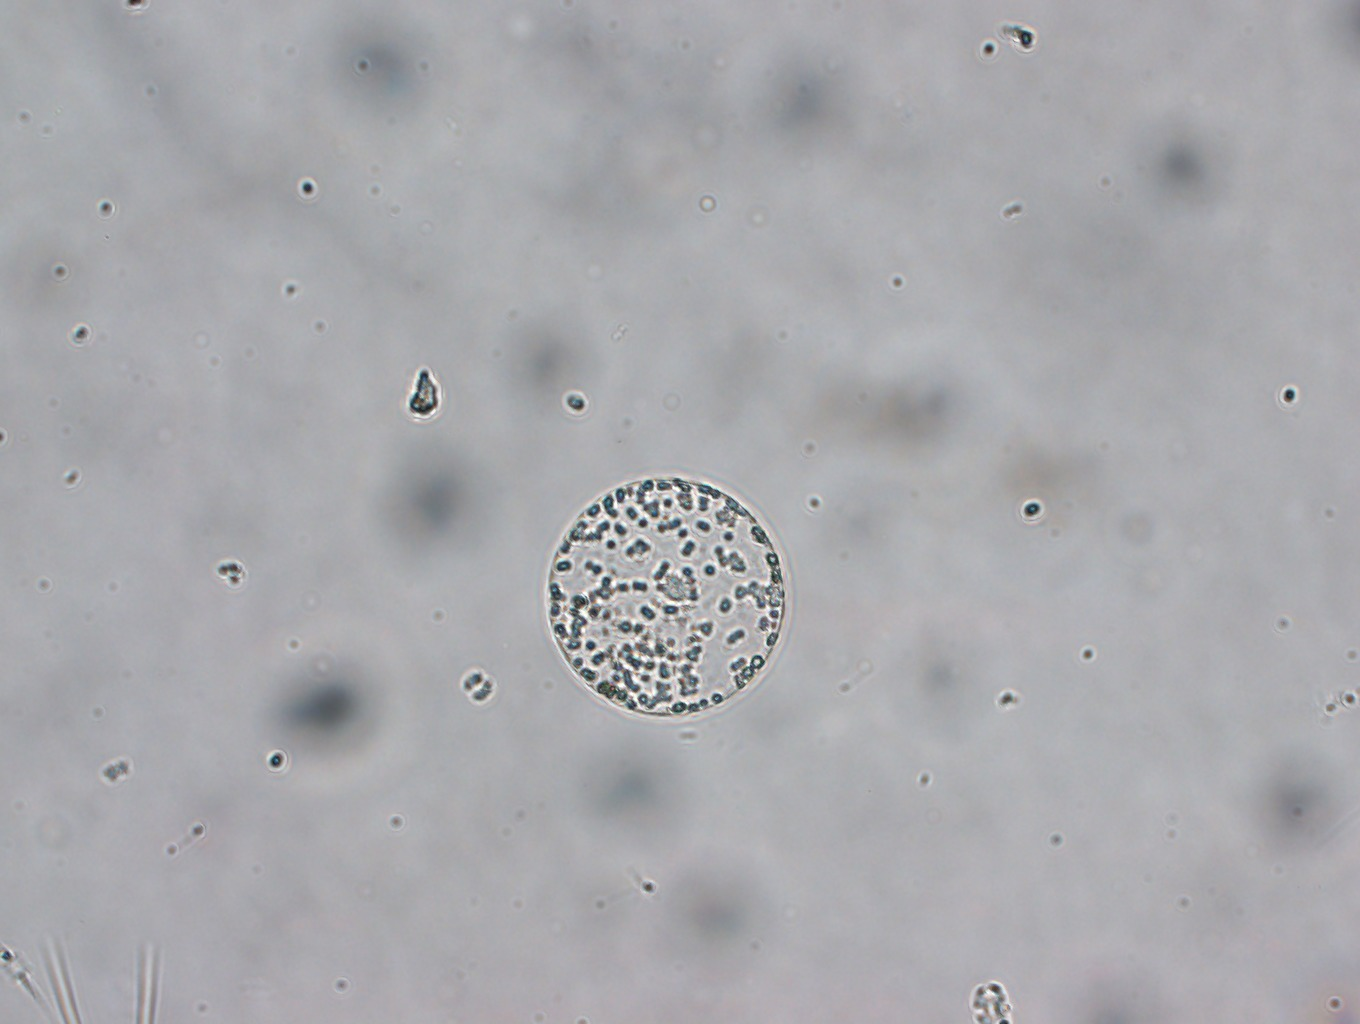coscinodiscus: (546, 475, 786, 719)
